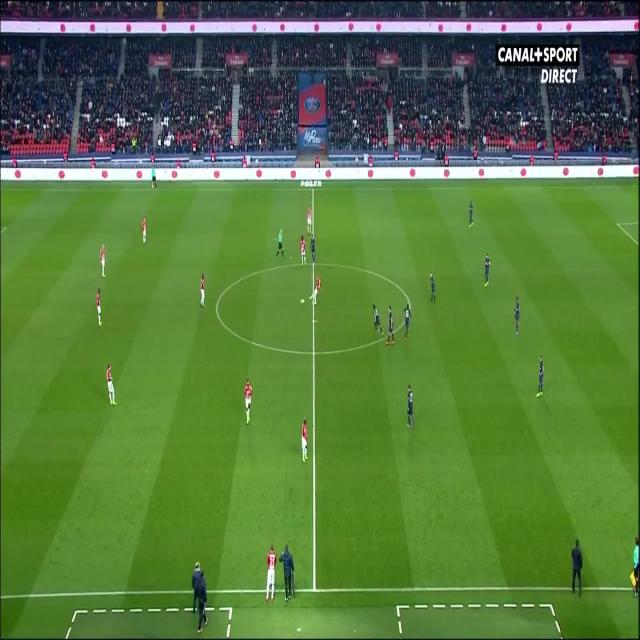Ball: (300, 296, 306, 308)
Player: (266, 544, 278, 603), (403, 382, 416, 432), (93, 284, 107, 330), (106, 361, 119, 407), (369, 299, 384, 338), (512, 289, 523, 339), (310, 272, 323, 309), (401, 302, 413, 342), (243, 377, 253, 423), (535, 354, 545, 400), (386, 304, 396, 348), (198, 269, 208, 311), (98, 242, 108, 280), (302, 415, 309, 468), (298, 233, 308, 268), (428, 272, 438, 306), (483, 252, 491, 288), (140, 212, 148, 247), (468, 197, 476, 232), (309, 234, 318, 264), (306, 206, 313, 234)
Referee: (630, 533, 640, 598), (276, 224, 286, 258), (150, 164, 158, 192)
